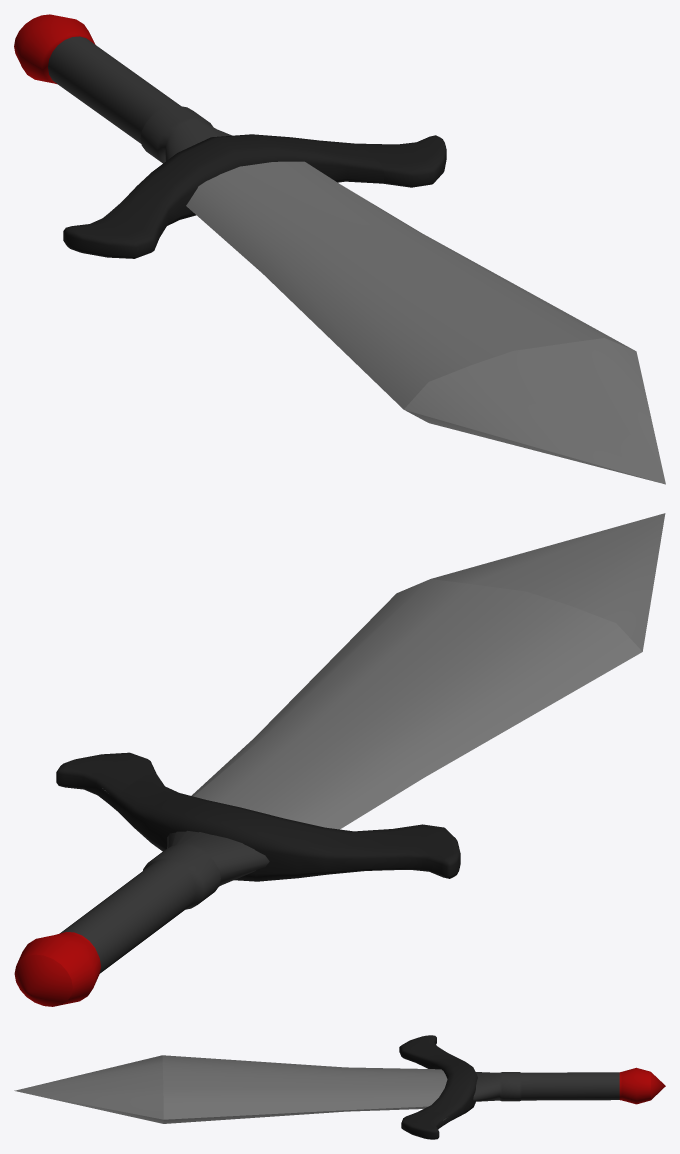
File: sword.fbx
3 renders of one model, top to bottom at view 1: azimuth 30°, elevation 25°; view 2: azimuth 150°, elevation 25°; view 3: azimuth 270°, elevation 25°, orthographic. The views are drawn at different scales.
Visible parts, largest first — view 1: tousin, tuba, tuka; view 2: tousin, tuba, tuka; view 3: tousin, tuka, tuba.
Part boxes in pixels (x1,y1,x2,y2): tousin: (186, 161, 665, 484); tuba: (63, 134, 446, 258); tuka: (14, 14, 231, 163); tousin: (191, 513, 665, 829); tuba: (56, 752, 460, 881); tuka: (14, 830, 269, 1006); tousin: (14, 1055, 447, 1123); tuka: (473, 1067, 665, 1104); tuba: (399, 1035, 477, 1139).
Bounding box in the file's own units: 29.54 × 4.97 × 84.56.
